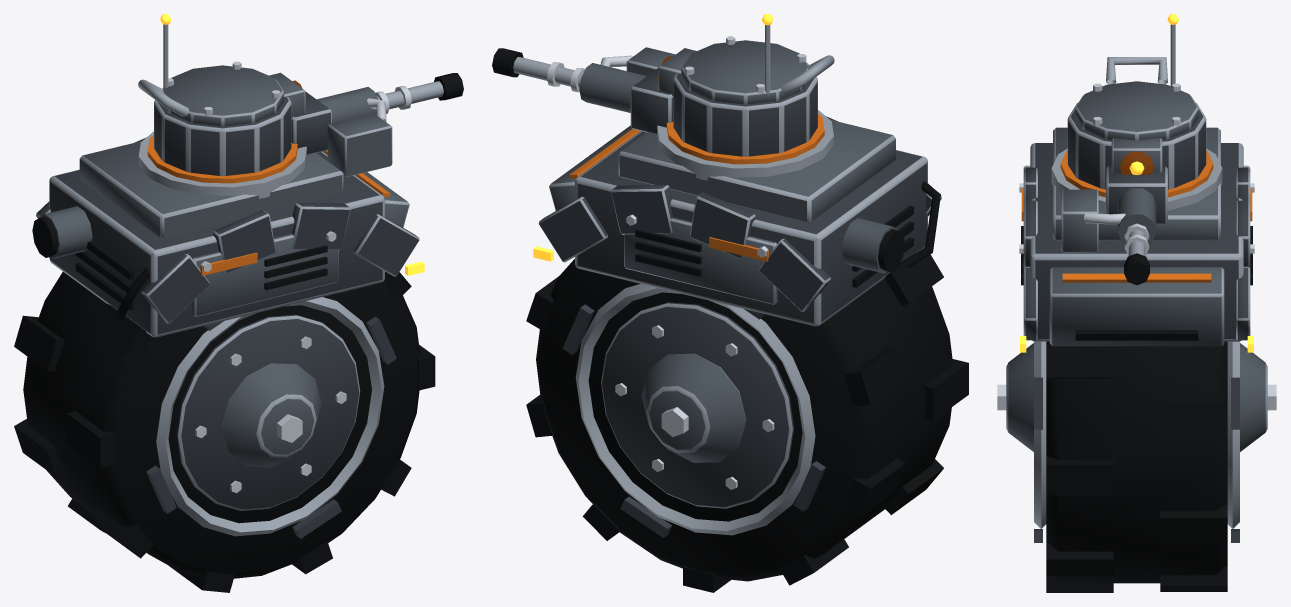
Rendered from enemigo_rodante.glb.
3 views of the same model, side by side, from view 1: azimuth 30°, elevation 25°; view 2: azimuth 150°, elevation 25°; view 3: azimuth 270°, elevation 25° (orthographic). The views are drawn at different scales.
Visible parts, largest first — view 1: mov_rueda, mov_torreta, chasis, techo, placa_lateral_1, guardabarros_4, guardabarros_2, guardabarros_1, guardabarros_3, escape, escape_boca, proa (+2 smaller); view 2: mov_rueda, mov_torreta, chasis, techo, placa_lateral_2, guardabarros_8, guardabarros_6, guardabarros_5, guardabarros_7, escape, proa, cable (+2 smaller); view 3: mov_rueda, mov_torreta, proa, chasis, techo, rejilla_proa_1, franja_aviso, guardabarros_1, guardabarros_5, guardabarros_2, guardabarros_6, guardabarros_3 (+1 smaller).
Part boxes in pixels (x1,y1,x2,y2): mov_rueda: (14,271,435,592); mov_torreta: (138,14,463,198); chasis: (49,151,384,337); techo: (79,141,343,238); placa_lateral_1: (192,234,338,316); guardabarros_4: (141,254,210,323); guardabarros_2: (292,203,350,250); guardabarros_1: (353,214,419,276); guardabarros_3: (213,210,275,273); escape: (39,206,92,258); escape_boca: (32,216,58,257); proa: (363,172,409,227); mov_rueda: (526,249,968,592); mov_torreta: (492,14,834,180); chasis: (575,131,927,326); techo: (618,119,895,222); placa_lateral_2: (624,217,777,304); guardabarros_8: (759,238,830,311); guardabarros_6: (611,185,672,234); guardabarros_5: (538,196,608,262); guardabarros_7: (690,192,755,259); escape: (842,218,898,273); proa: (549,125,632,210); cable: (898,181,940,267); mov_rueda: (997,341,1276,592); mov_torreta: (1051,14,1222,285); proa: (1049,267,1224,346); chasis: (1030,143,1243,341); techo: (1053,127,1220,240); rejilla_proa_1: (1075,330,1198,340); franja_aviso: (1062,273,1211,282); guardabarros_1: (1023,266,1037,340); guardabarros_5: (1236,266,1250,340); guardabarros_2: (1023,200,1037,267); guardabarros_6: (1236,200,1250,267); guardabarros_3: (1023,167,1037,201).
Size of the model in its own units: 0.723 by 0.922 by 0.432.
